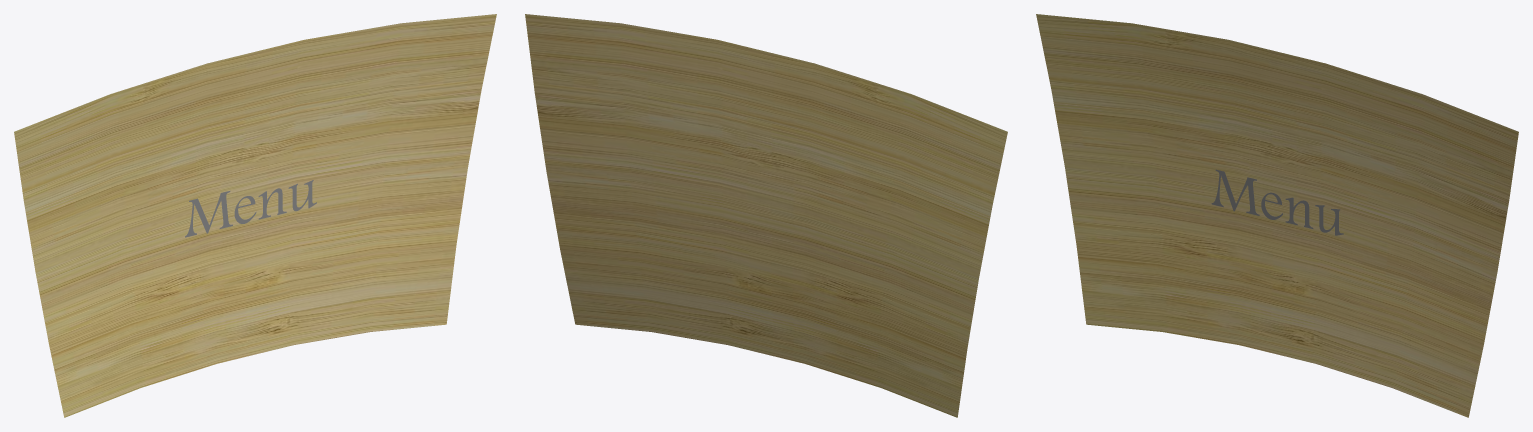
The model's file is menu.FBX.
3 views of the same model, side by side, from view 1: azimuth 30°, elevation 25°; view 2: azimuth 150°, elevation 25°; view 3: azimuth 330°, elevation 25° (orthographic).
Visible parts, largest first — view 1: Plane006, TextPlus006; view 2: Plane006; view 3: Plane006, TextPlus006.
Boxes of the visible parts, x1=… form: Plane006: x1=14, y1=14, x2=496, y2=417; TextPlus006: x1=185, y1=180, x2=316, y2=237; Plane006: x1=525, y1=14, x2=1007, y2=417; Plane006: x1=1036, y1=14, x2=1518, y2=417; TextPlus006: x1=1211, y1=169, x2=1343, y2=235.
Bounding box in the file's own units: 131 × 82.95 × 1.72.
Materials: 2 (1 with a texture image).
